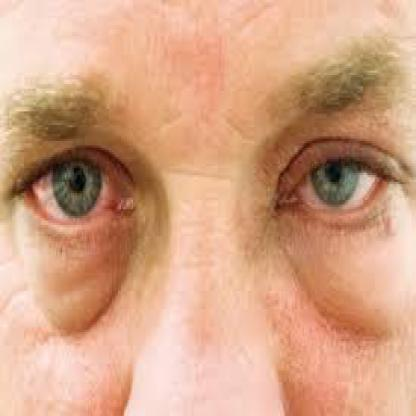puffyeye: (10, 209, 128, 348), (280, 216, 414, 330)
